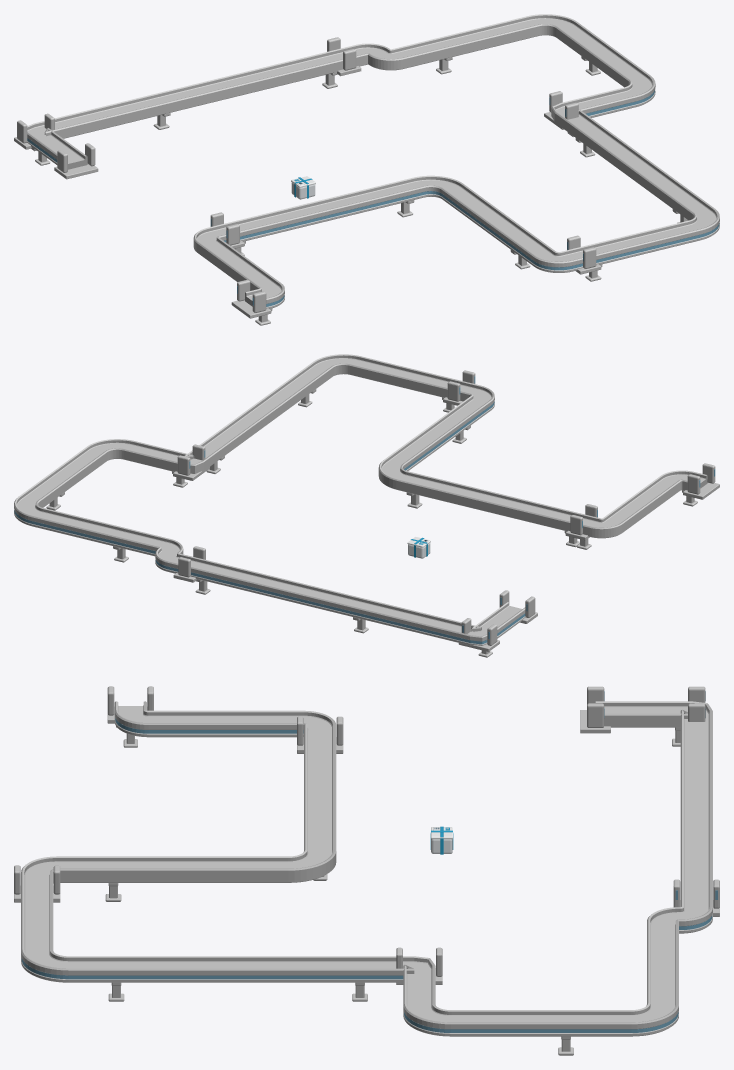
The model's file is conveyor-integrated.glb.
3 views of the same model, one above another, from view 1: azimuth 30°, elevation 25°; view 2: azimuth 150°, elevation 25°; view 3: azimuth 270°, elevation 25° (orthographic). The views are drawn at different scales.
Visible parts, largest first — view 1: Conveyor_Belt, Conveyor_Frame, Conveyor_Inlay; view 2: Conveyor_Belt, Conveyor_Frame, Conveyor_Inlay; view 3: Conveyor_Belt, Conveyor_Frame, Conveyor_Inlay.
Boxes of the visible parts, left/top/right/bottom form: Conveyor_Belt: left=27, top=14, right=719, bottom=308; Conveyor_Frame: left=14, top=37, right=688, bottom=325; Conveyor_Inlay: left=27, top=90, right=719, bottom=306; Conveyor_Belt: left=14, top=354, right=707, bottom=645; Conveyor_Frame: left=46, top=370, right=719, bottom=657; Conveyor_Inlay: left=14, top=401, right=525, bottom=644; Conveyor_Belt: left=21, top=701, right=712, bottom=1036; Conveyor_Frame: left=14, top=686, right=719, bottom=1055; Conveyor_Inlay: left=21, top=718, right=712, bottom=1032.
Bounding box in the file's own units: 20.74 × 1.55 × 18.84.
